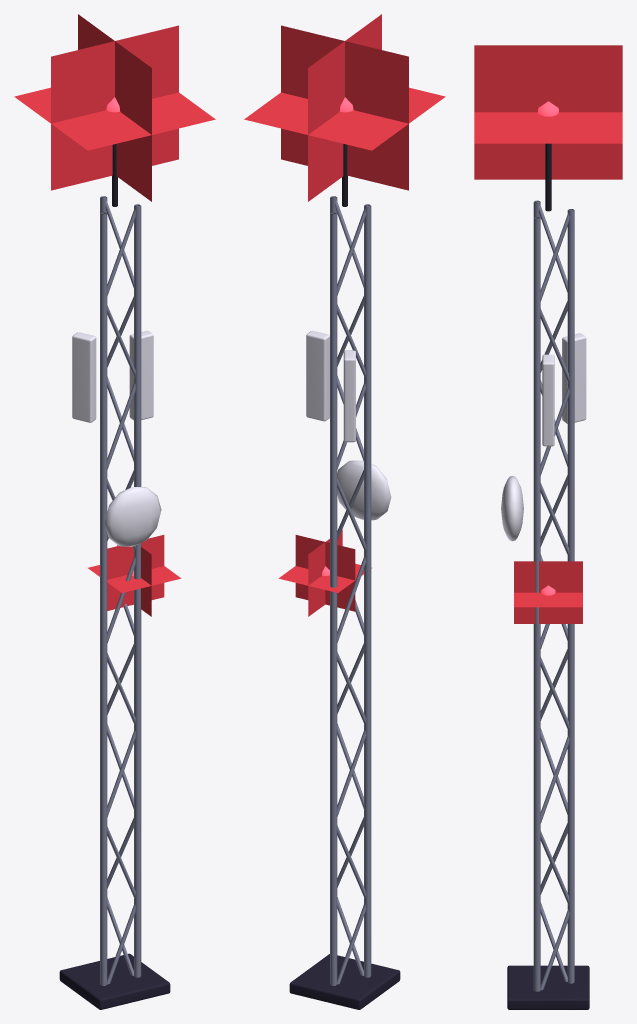
Rendered from neon_antenna.glb.
3 renders of one model, left to right at view 1: azimuth 30°, elevation 25°; view 2: azimuth 150°, elevation 25°; view 3: azimuth 270°, elevation 25°, orthographic.
Parts seen in each view (by area): view 1: Antenna, BlinkBeacon.001, BlinkMid.001; view 2: Antenna, BlinkBeacon.001, BlinkMid.001; view 3: Antenna, BlinkBeacon.001, BlinkMid.001.
Part boxes in pixels (x1=…): Antenna: x1=59, y1=144, x2=170, y2=1009; BlinkBeacon.001: x1=14, y1=14, x2=215, y2=201; BlinkMid.001: x1=88, y1=535, x2=181, y2=616; Antenna: x1=289, y1=144, x2=400, y2=1009; BlinkBeacon.001: x1=244, y1=14, x2=445, y2=201; BlinkMid.001: x1=278, y1=529, x2=371, y2=616; Antenna: x1=501, y1=143, x2=589, y2=1009; BlinkBeacon.001: x1=474, y1=45, x2=622, y2=179; BlinkMid.001: x1=514, y1=561, x2=582, y2=623.
Bounding box in the file's own units: 1.44 × 10.18 × 1.44.
